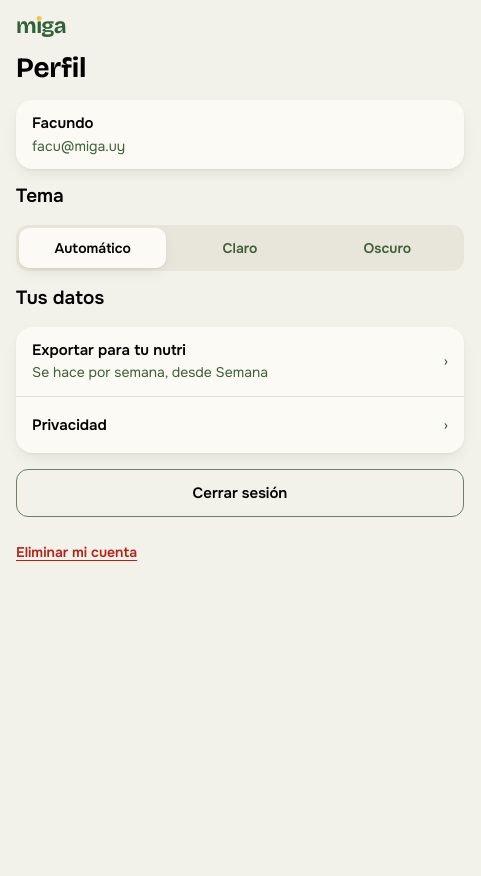
Test case: contraseña incorrecta muestra el error y mantiene la sesión
The image size is (481, 876).
Click the button "Eliminar mi cuenta" at (77, 553), box [16,533,137,573]
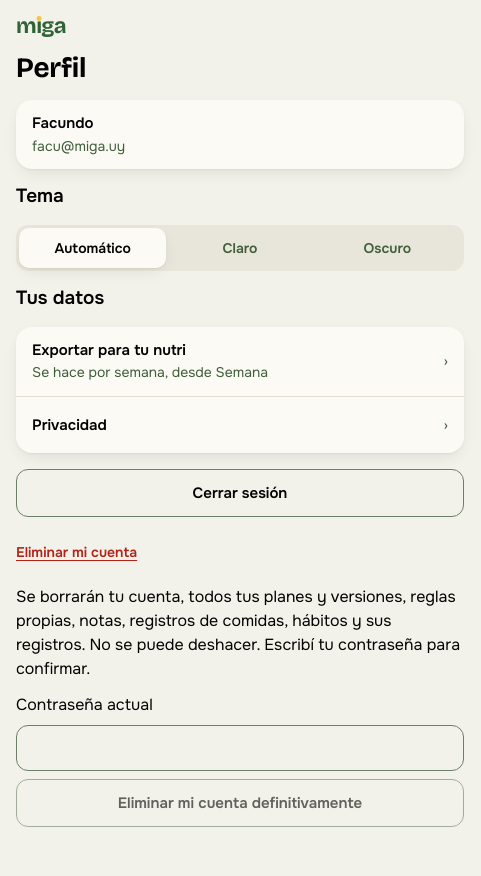
Type "incorrecta" into the password field labelled "Contraseña actual" at (240, 748), box [16,725,464,771]
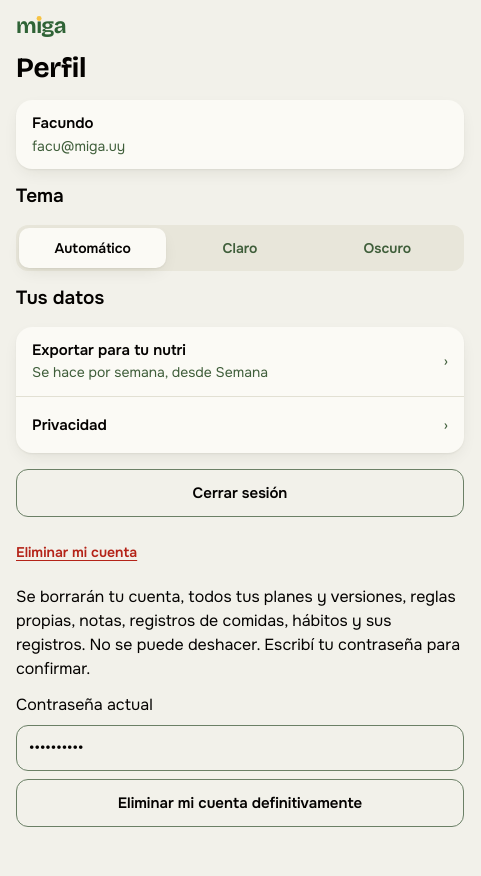
Click the button "Eliminar mi cuenta definitivamente" at (240, 803), box [16,779,464,827]
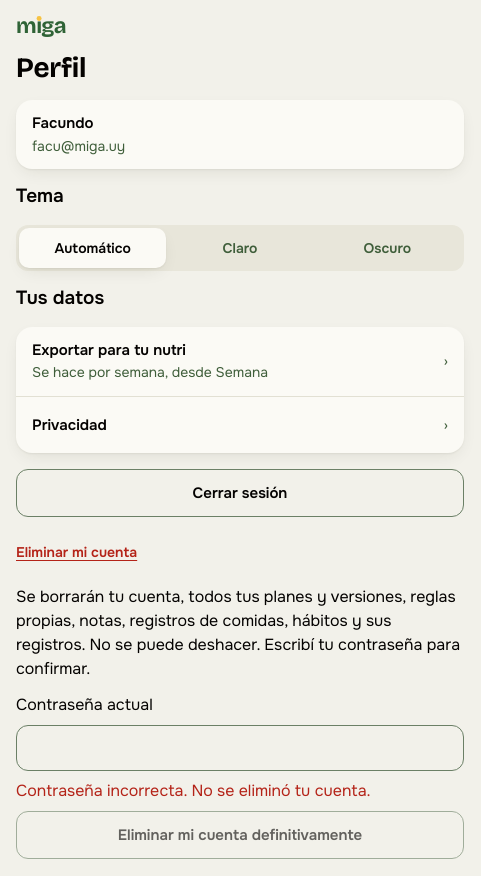
Now the message shows "Contraseña incorrecta", box [16,780,371,801]
Now the password field labelled "Contraseña actual" is empty, box [16,725,464,771]
